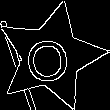O_N: (27, 29, 75, 84)
